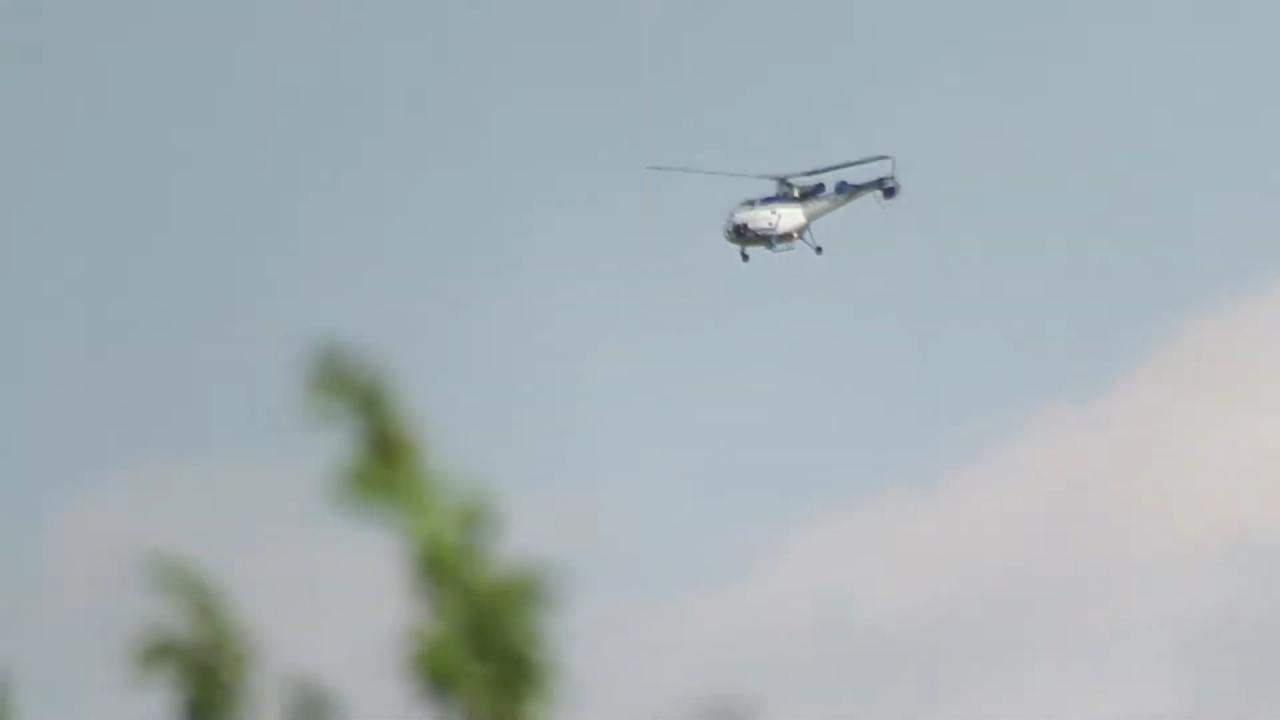Helicopter: (627, 146, 913, 274)
